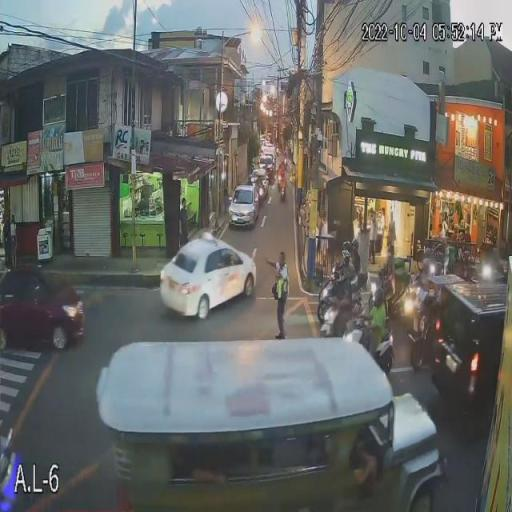helmet: (342, 236, 359, 256), (338, 250, 355, 270), (391, 259, 408, 276), (370, 287, 386, 304), (330, 268, 348, 282)
motorcycle: (341, 312, 394, 375), (318, 290, 359, 338), (372, 281, 414, 307), (276, 170, 287, 202)
rider: (364, 288, 394, 348), (325, 276, 355, 330), (330, 252, 356, 312), (386, 260, 409, 302), (277, 159, 286, 185)
